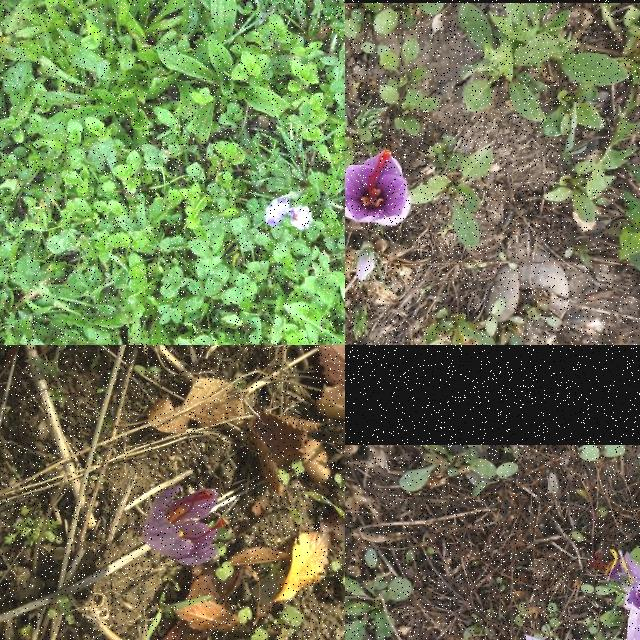flower: (135, 485, 229, 567), (345, 149, 412, 226), (623, 578, 640, 640), (264, 198, 290, 228), (290, 206, 314, 230)
